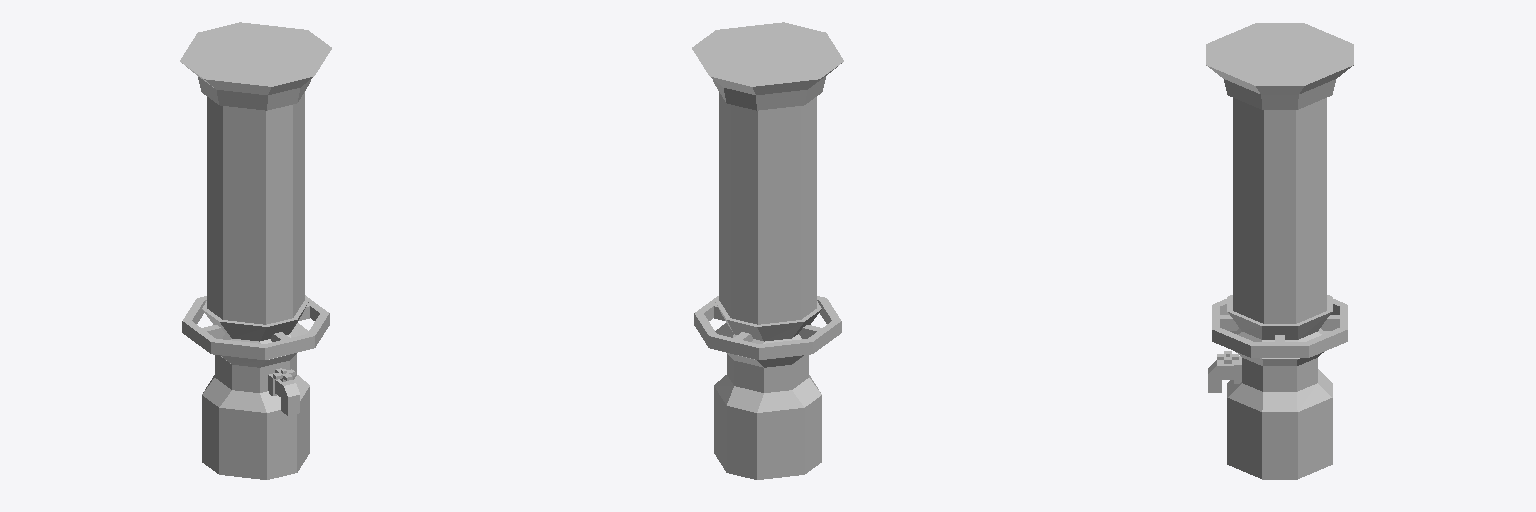
File: tank.obj
3 views of the same model, side by side, from view 1: azimuth 30°, elevation 25°; view 2: azimuth 150°, elevation 25°; view 3: azimuth 270°, elevation 25° (orthographic).
Visible parts, largest first — view 1: tank_redTankFaucet; view 2: tank_redTankFaucet; view 3: tank_redTankFaucet.
Boxes of the visible parts, x1=… form: tank_redTankFaucet: x1=180, y1=22, x2=331, y2=479; tank_redTankFaucet: x1=692, y1=22, x2=843, y2=479; tank_redTankFaucet: x1=1206, y1=23, x2=1353, y2=479.
Size of the model in its own units: 1 by 3 by 1.